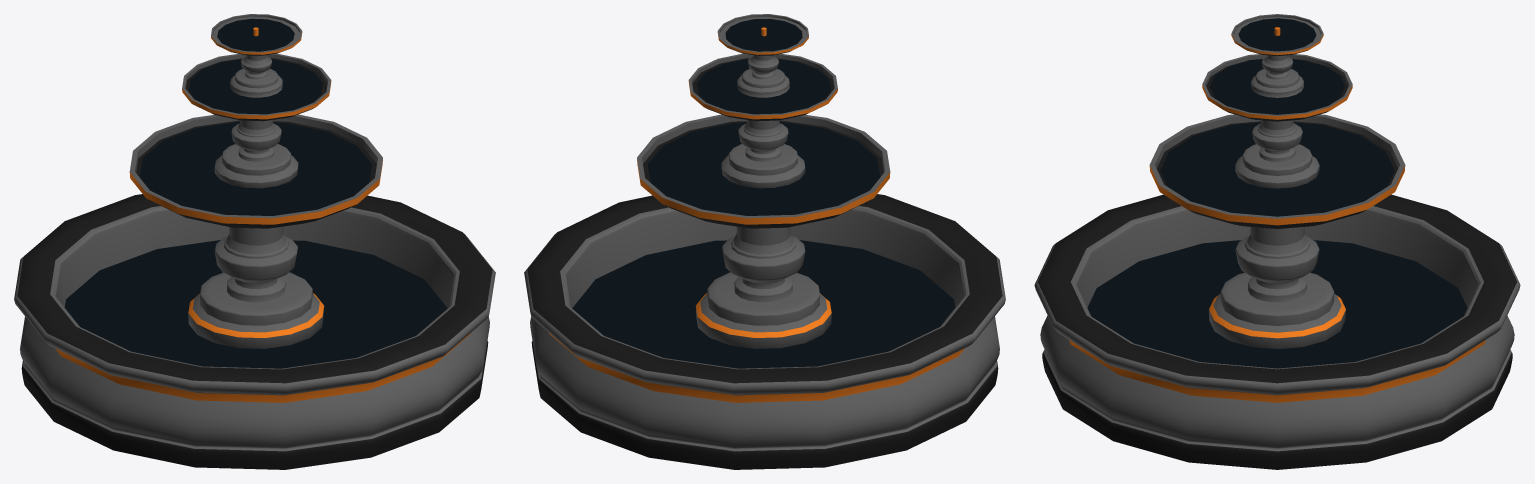
File: Foutain Adjusted.FBX
3 views of the same model, side by side, from view 1: azimuth 30°, elevation 25°; view 2: azimuth 150°, elevation 25°; view 3: azimuth 270°, elevation 25° (orthographic).
Parts seen in each view (by area): view 1: Fountain; view 2: Fountain; view 3: Fountain.
Part boxes in pixels (<box>): Fountain: <box>14,14,495,469</box>; Fountain: <box>524,14,1005,469</box>; Fountain: <box>1034,14,1520,469</box>.
Size of the model in its own units: 45.97 by 35.89 by 45.97.
